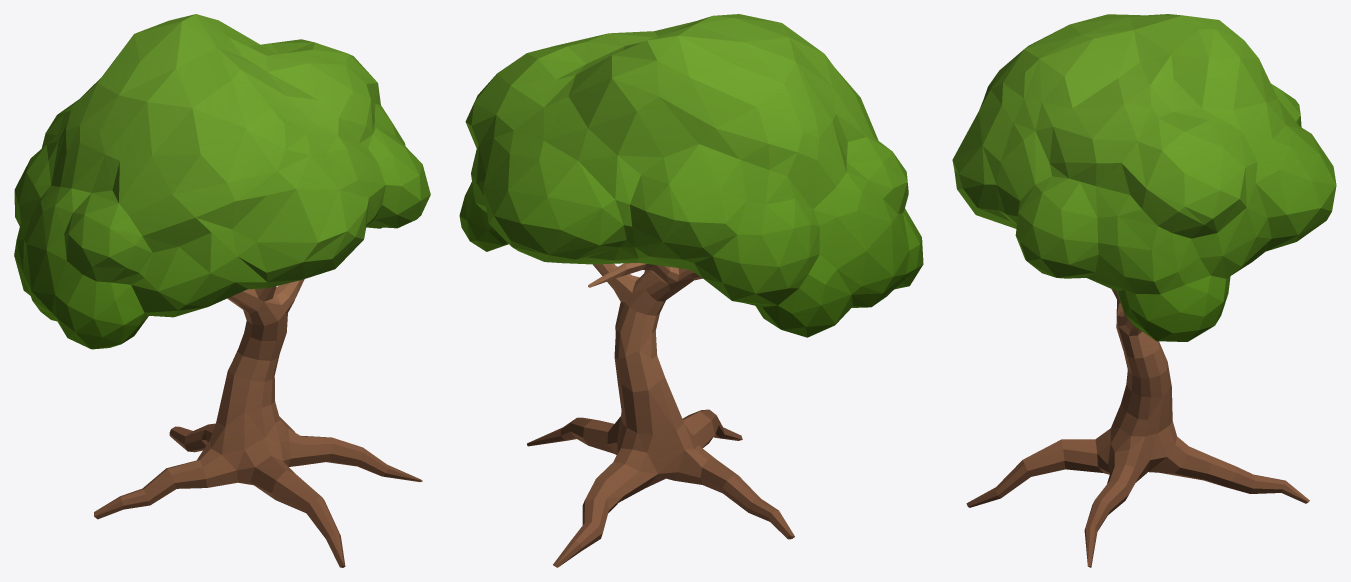
The model's file is Tree_Common_04.fbx.
3 renders of one model, left to right at view 1: azimuth 30°, elevation 25°; view 2: azimuth 150°, elevation 25°; view 3: azimuth 270°, elevation 25°, orthographic. The views are drawn at different scales.
Visible parts, largest first — view 1: Tree_Common_04; view 2: Tree_Common_04; view 3: Tree_Common_04.
Part boxes in pixels (x1,y1,x2,y2): Tree_Common_04: [14, 14, 430, 567]; Tree_Common_04: [459, 14, 923, 567]; Tree_Common_04: [952, 14, 1336, 567].
Size of the model in its own units: 995 by 1187 by 883.
